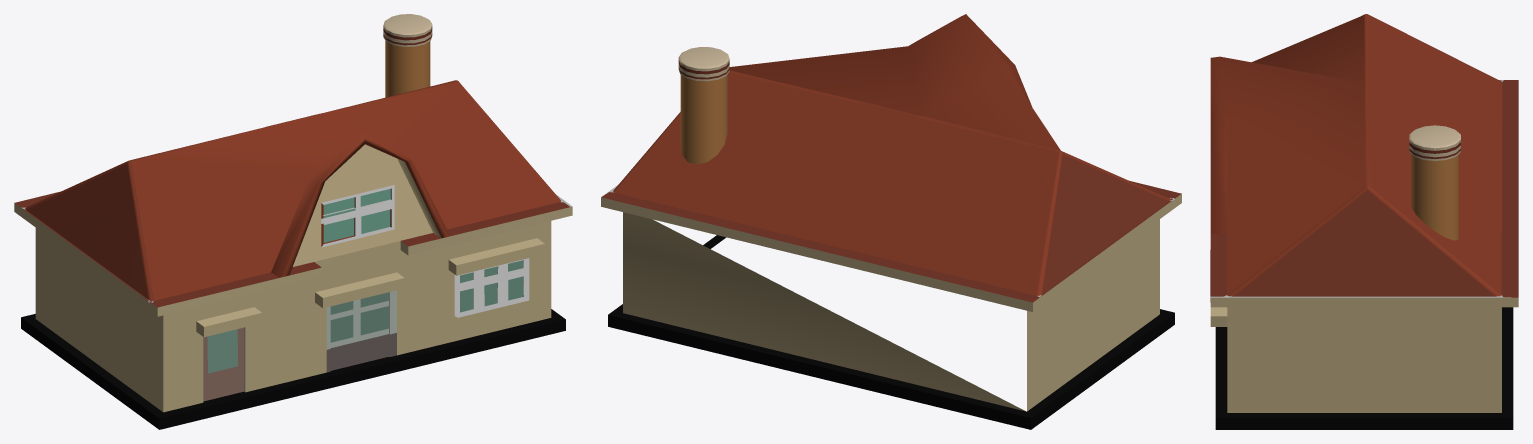
Rendered from cartoonhouse.glb.
3 renders of one model, left to right at view 1: azimuth 30°, elevation 25°; view 2: azimuth 150°, elevation 25°; view 3: azimuth 270°, elevation 25°, orthographic. The views are drawn at different scales.
Parts seen in each view (by area): view 1: pCube2; view 2: pCube2; view 3: pCube2.
Boxes of the visible parts, x1,y1,x2,y2 form: pCube2: (14, 14, 572, 429); pCube2: (601, 14, 1181, 429); pCube2: (1210, 14, 1518, 429).
Size of the model in its own units: 6.2 by 3.52 by 3.69.
